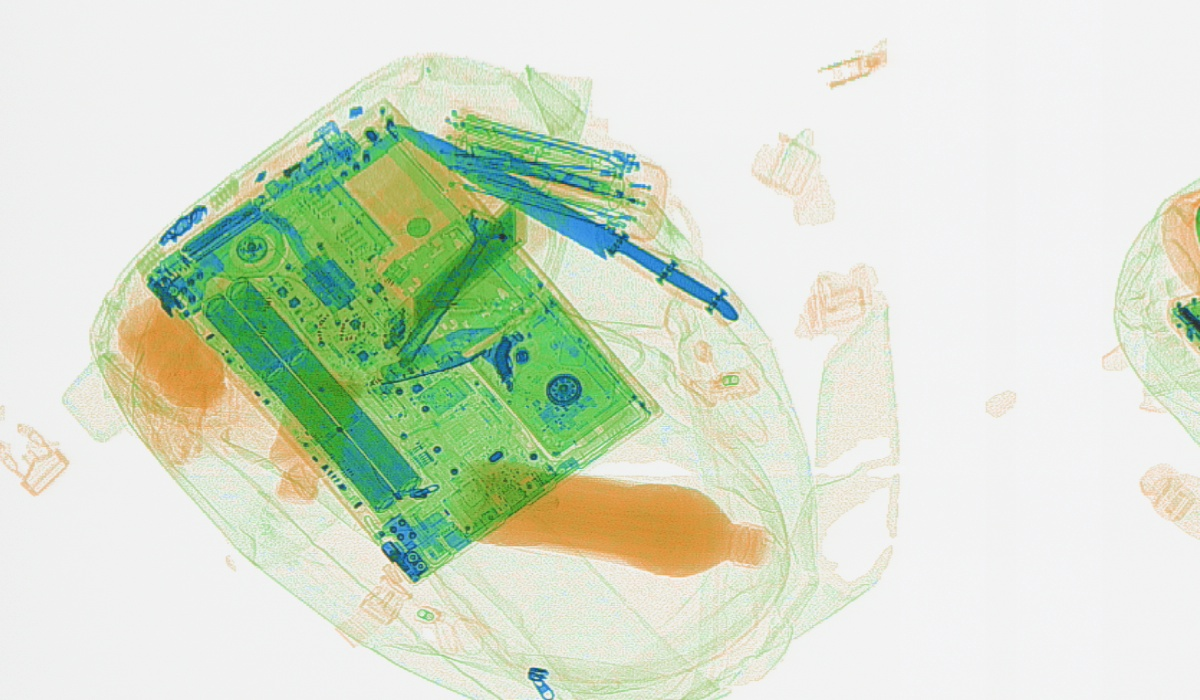knife: (383, 120, 747, 330), (369, 315, 503, 387)
lighter: (221, 114, 341, 203)
